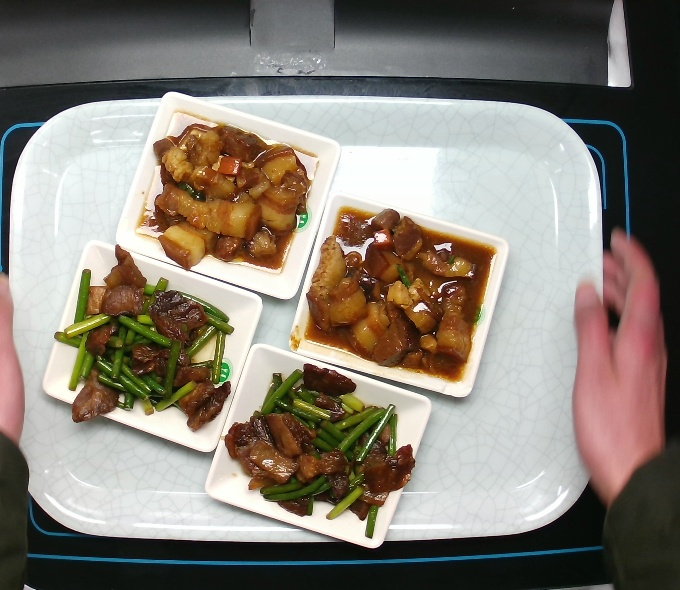wcq-HongShaoRou: (305, 206, 498, 384), (135, 104, 320, 281)
wcq-SuanMiaoChaoRou: (48, 245, 236, 435), (221, 358, 419, 535)
